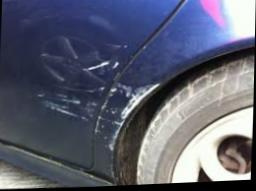Door: (31, 28, 144, 138)
Fender: (91, 65, 166, 156)
